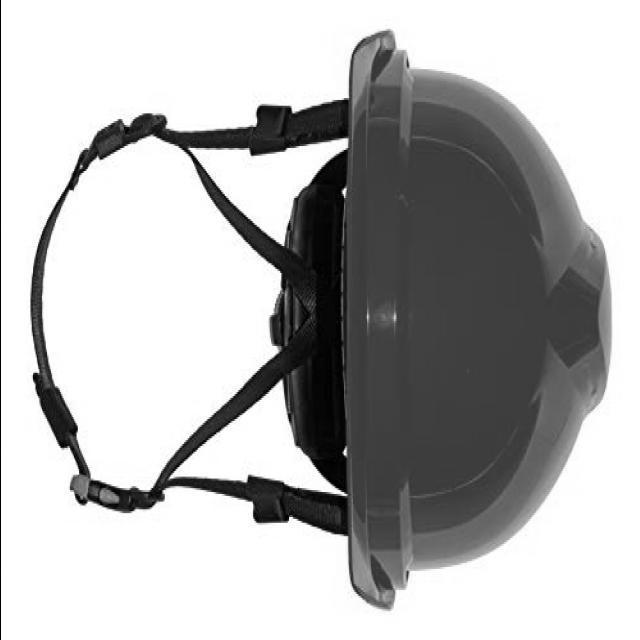safety_helmet: (26, 29, 611, 611)
